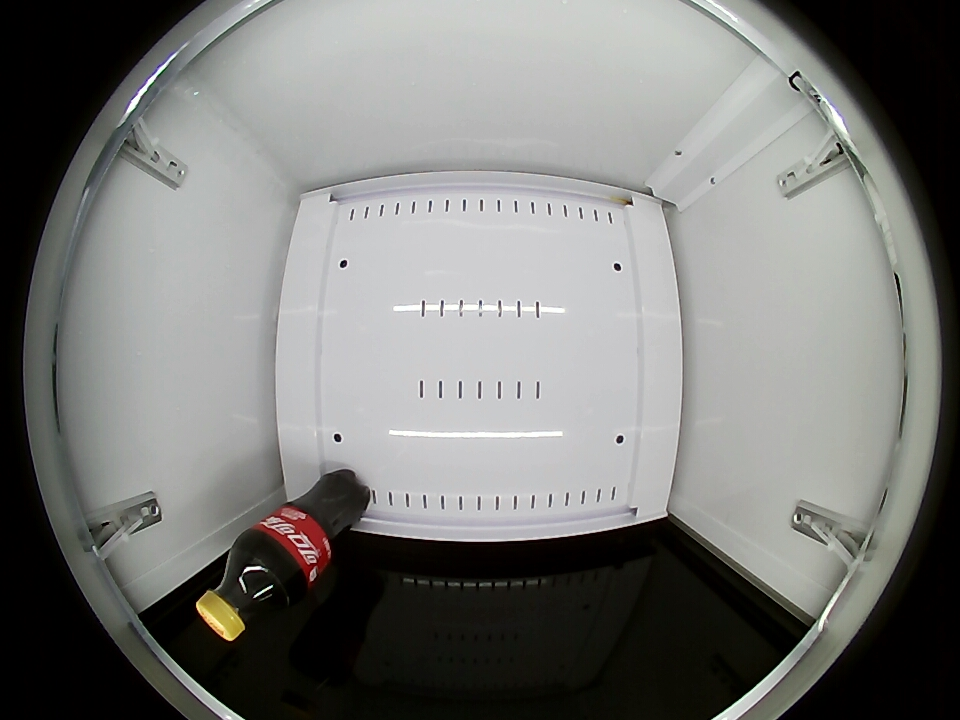kele-b-2: (195, 546, 296, 641)
